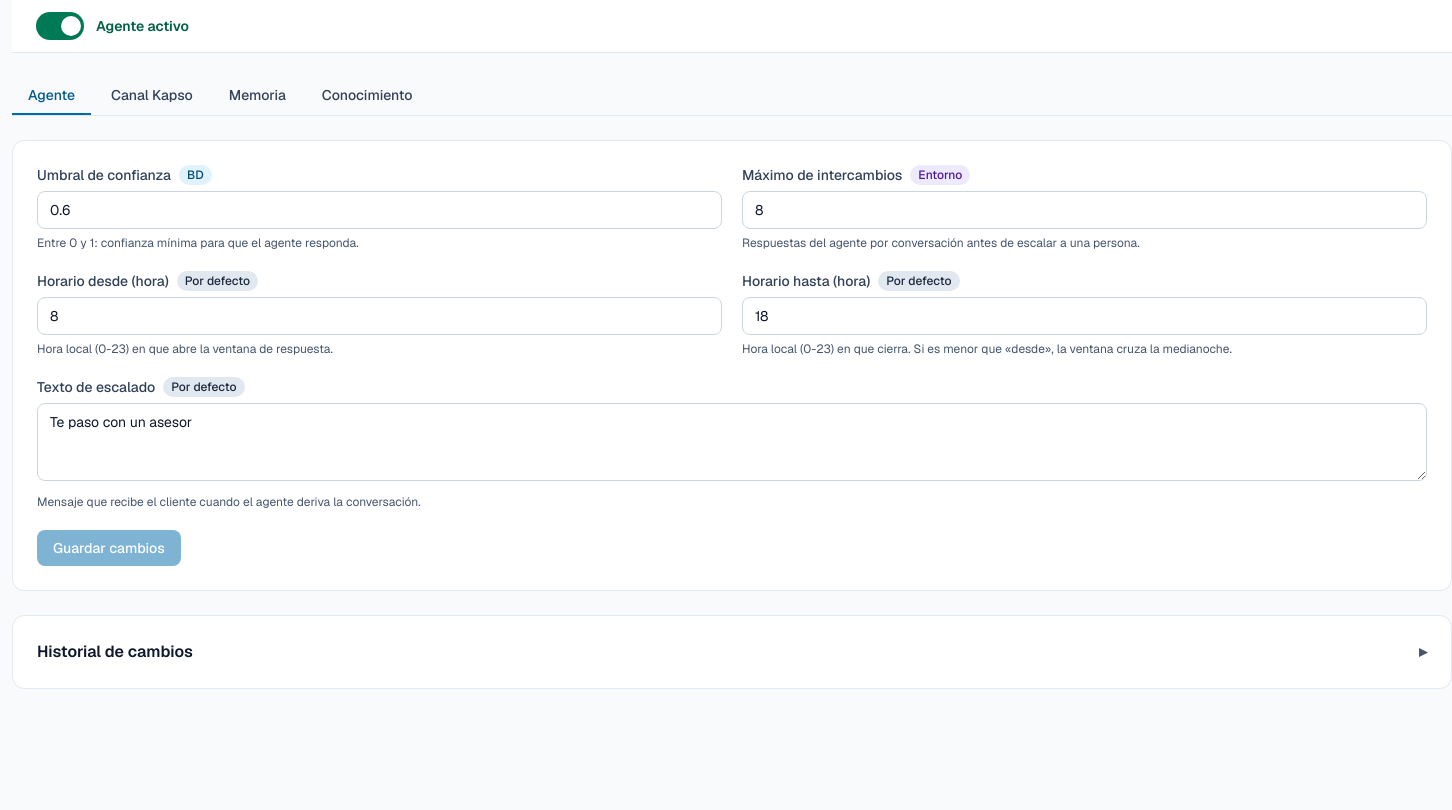
Test case: PanelConfiguracion — tab Conocimiento › sin crm_conocimiento explica que es otro permiso y no muestra el enlace
This screenshot has width=1452, height=810.
Click the tab "Conocimiento" at (367, 96), box 306,77 -> 428,115
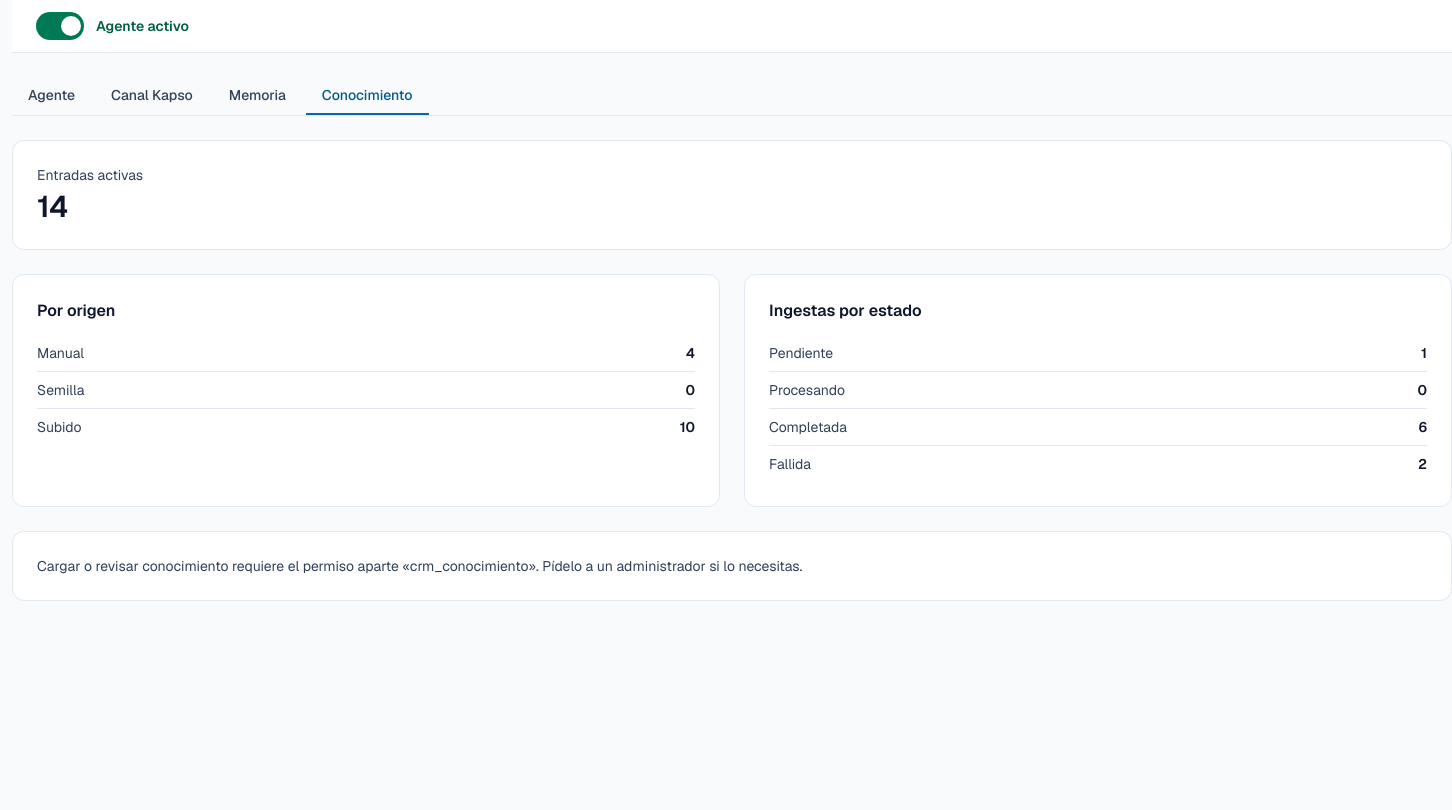
Result: the text "permiso aparte" is shown at 37,557 -> 802,575
